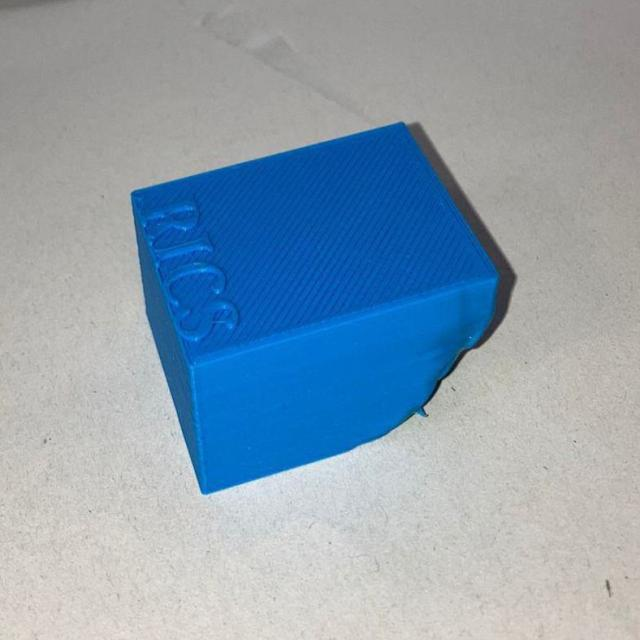Warping: (405, 341, 491, 417)
